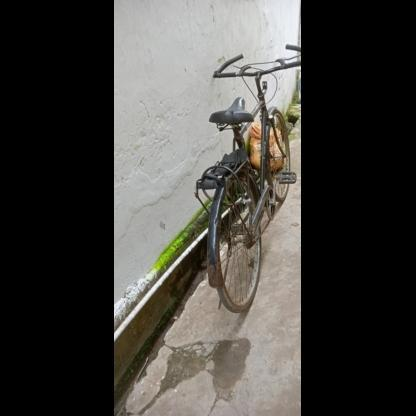Bicycle: (180, 27, 302, 322)
